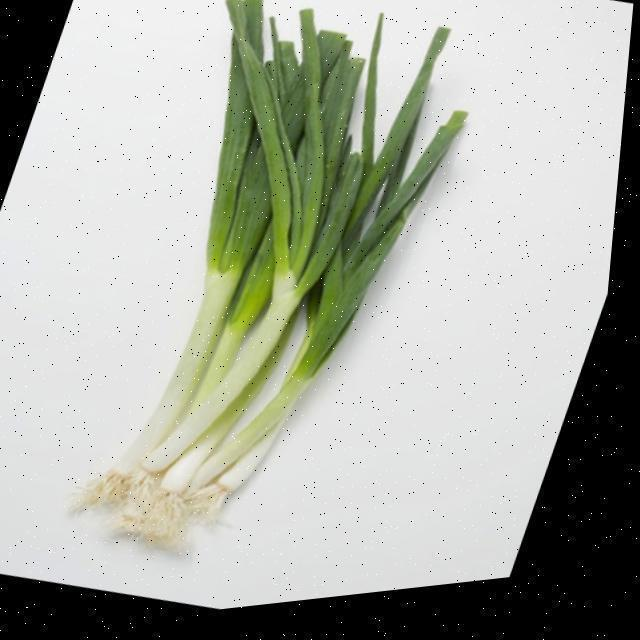green_onion: (105, 4, 458, 528)
